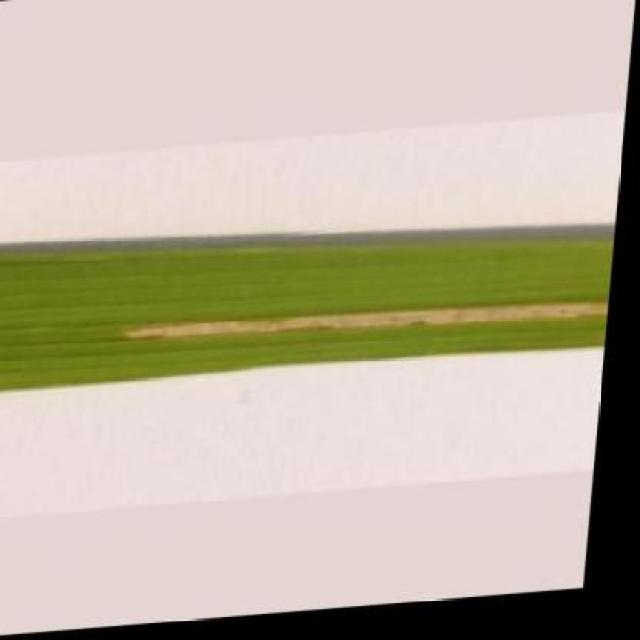Brown_Spot: (0, 205, 623, 400)
